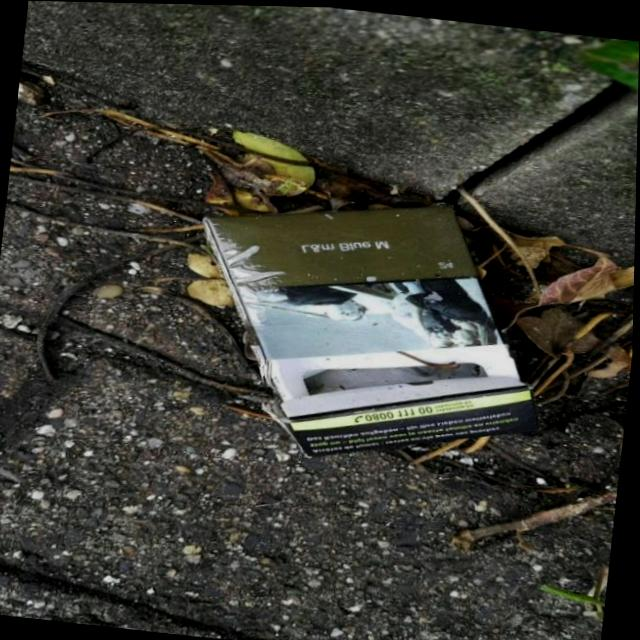Paper: (176, 173, 569, 482)
